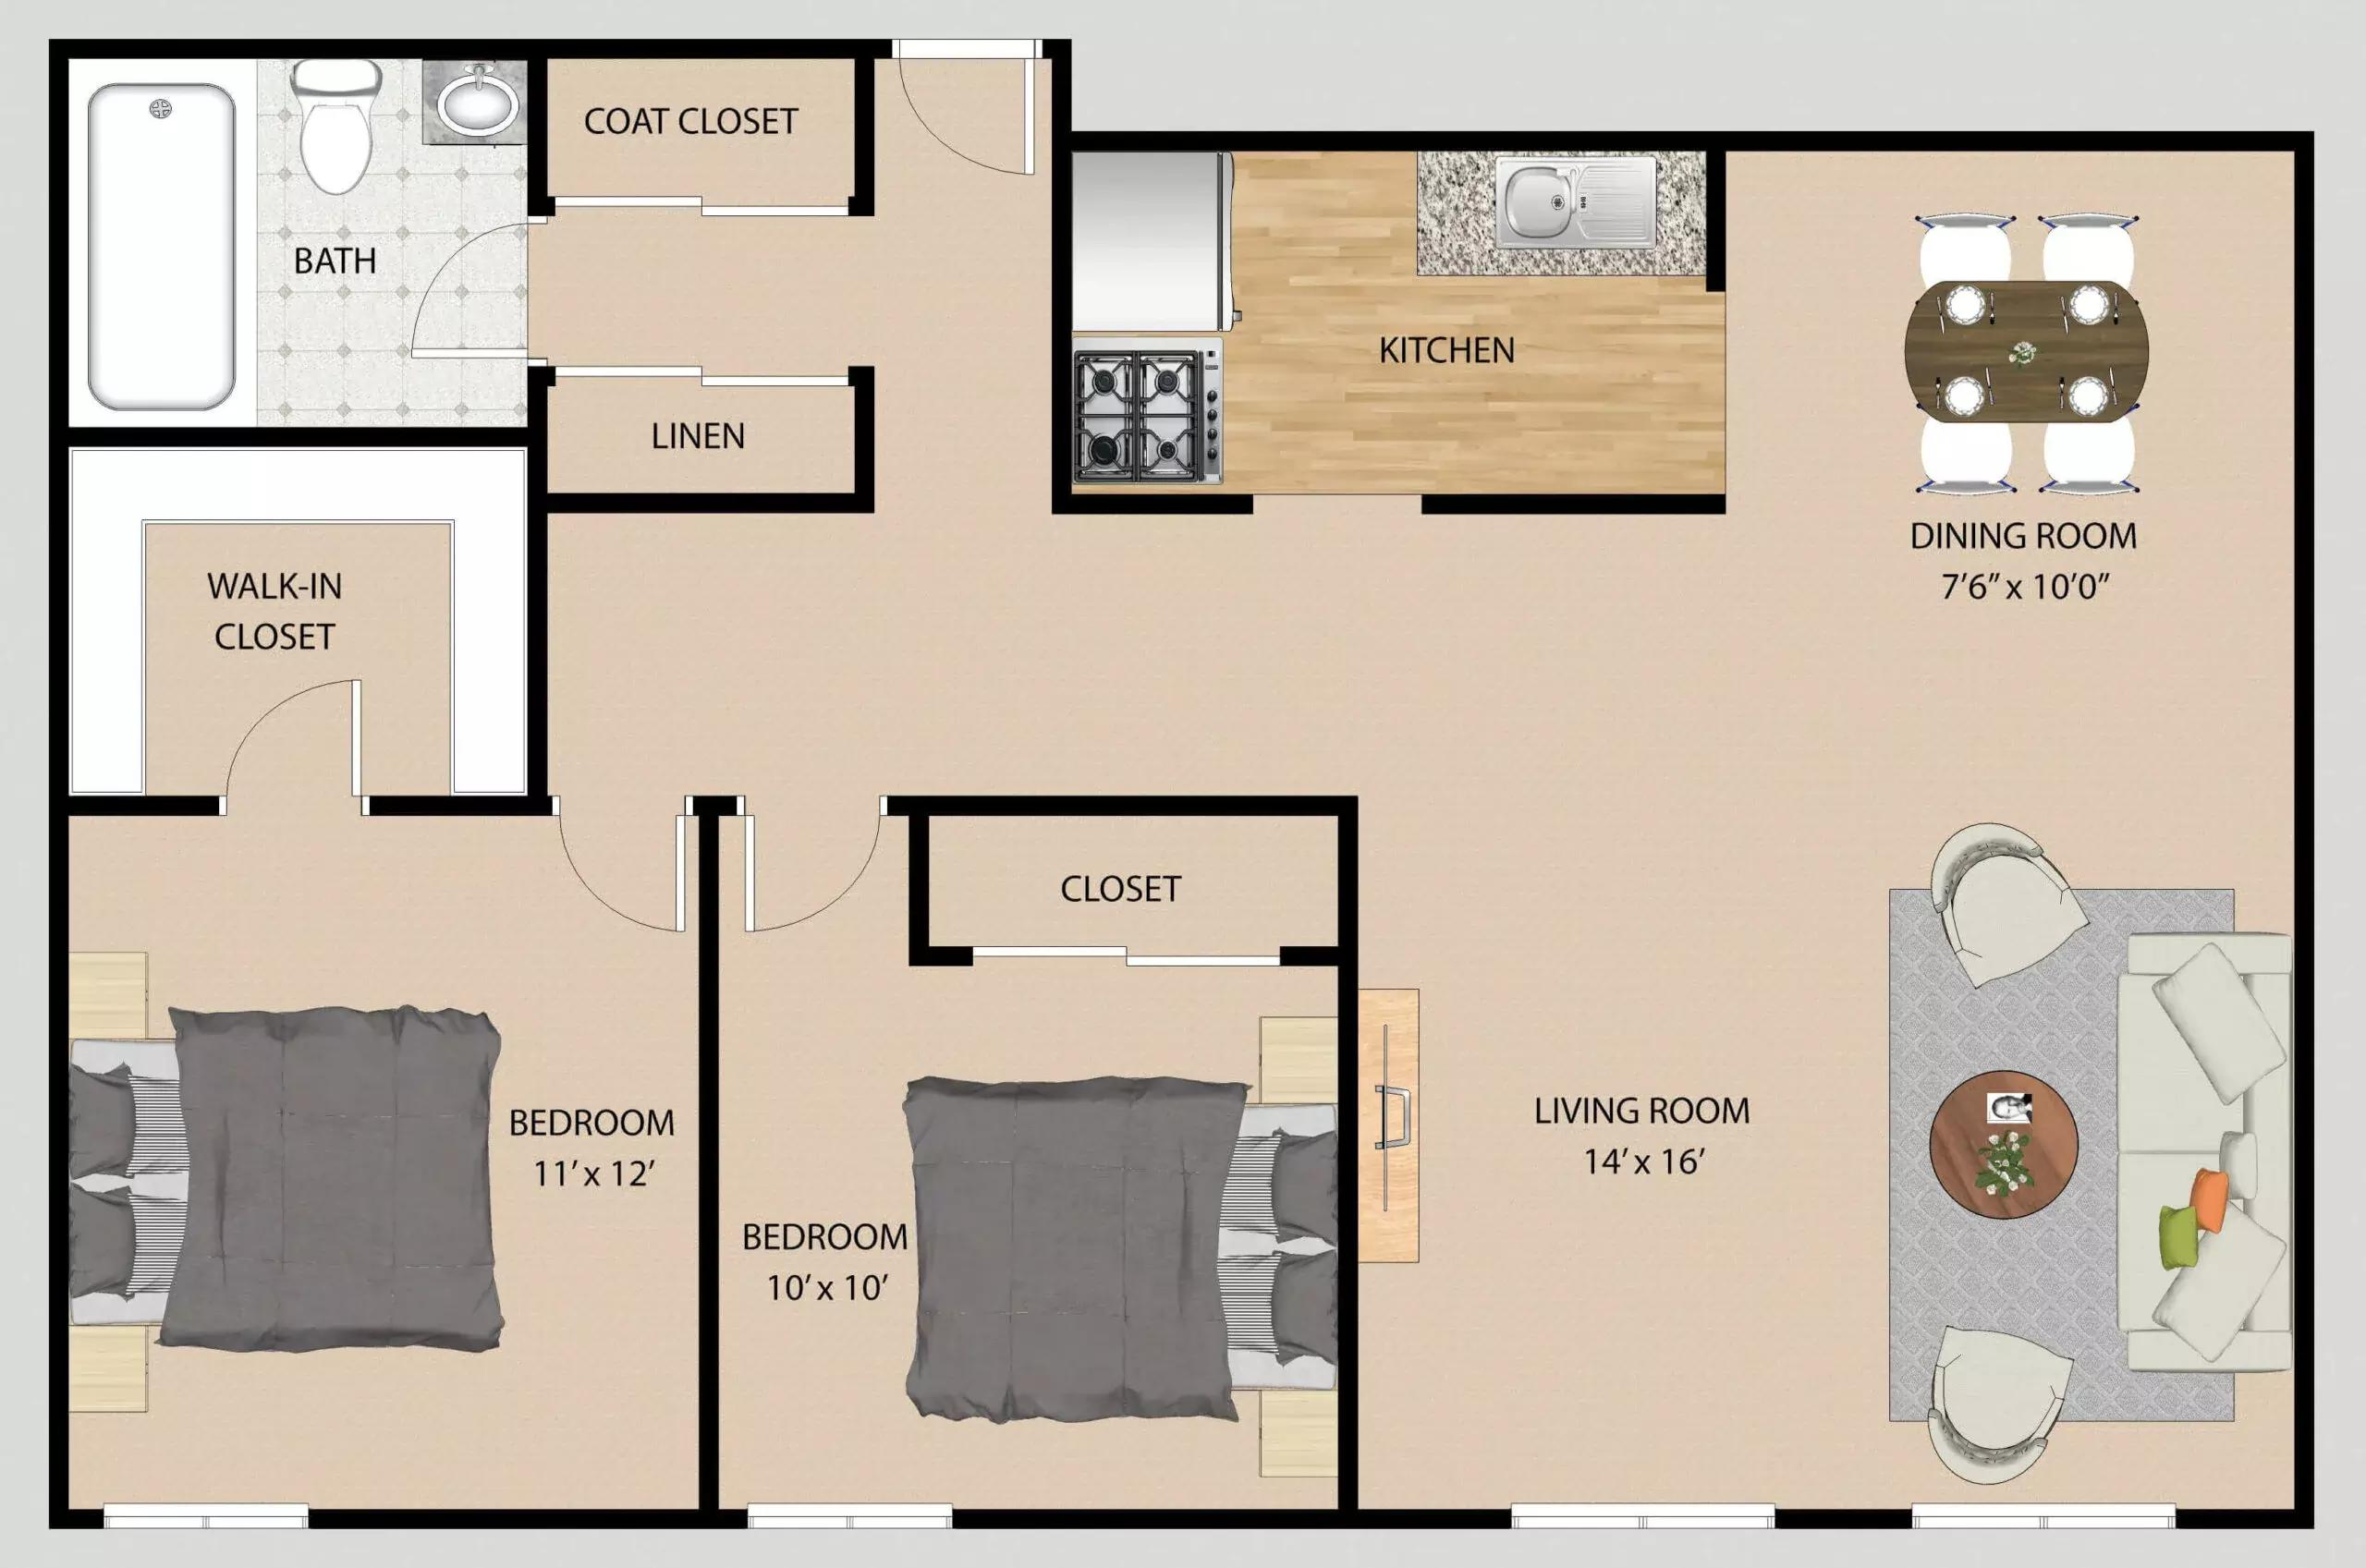room: (1351, 131, 2305, 1517), (61, 805, 703, 1517), (717, 803, 1347, 1512), (1060, 140, 1727, 504), (63, 47, 537, 427), (58, 434, 534, 800), (544, 49, 863, 506)
